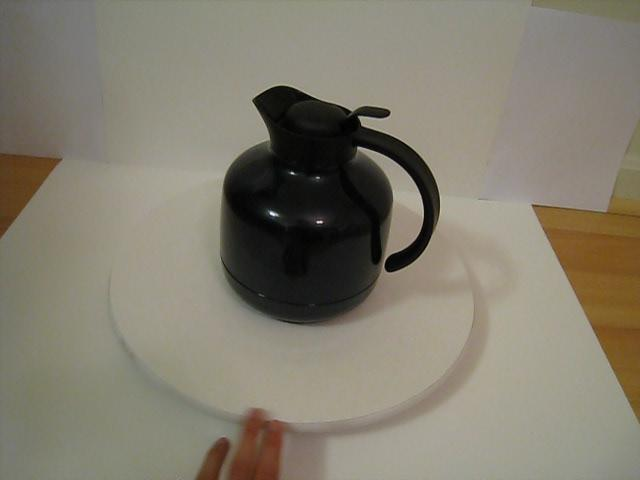pitcher: (213, 82, 460, 331)
